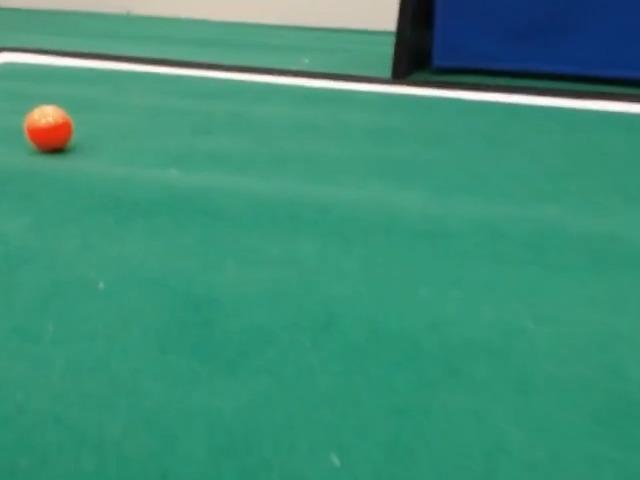Ball: (23, 105, 73, 152)
